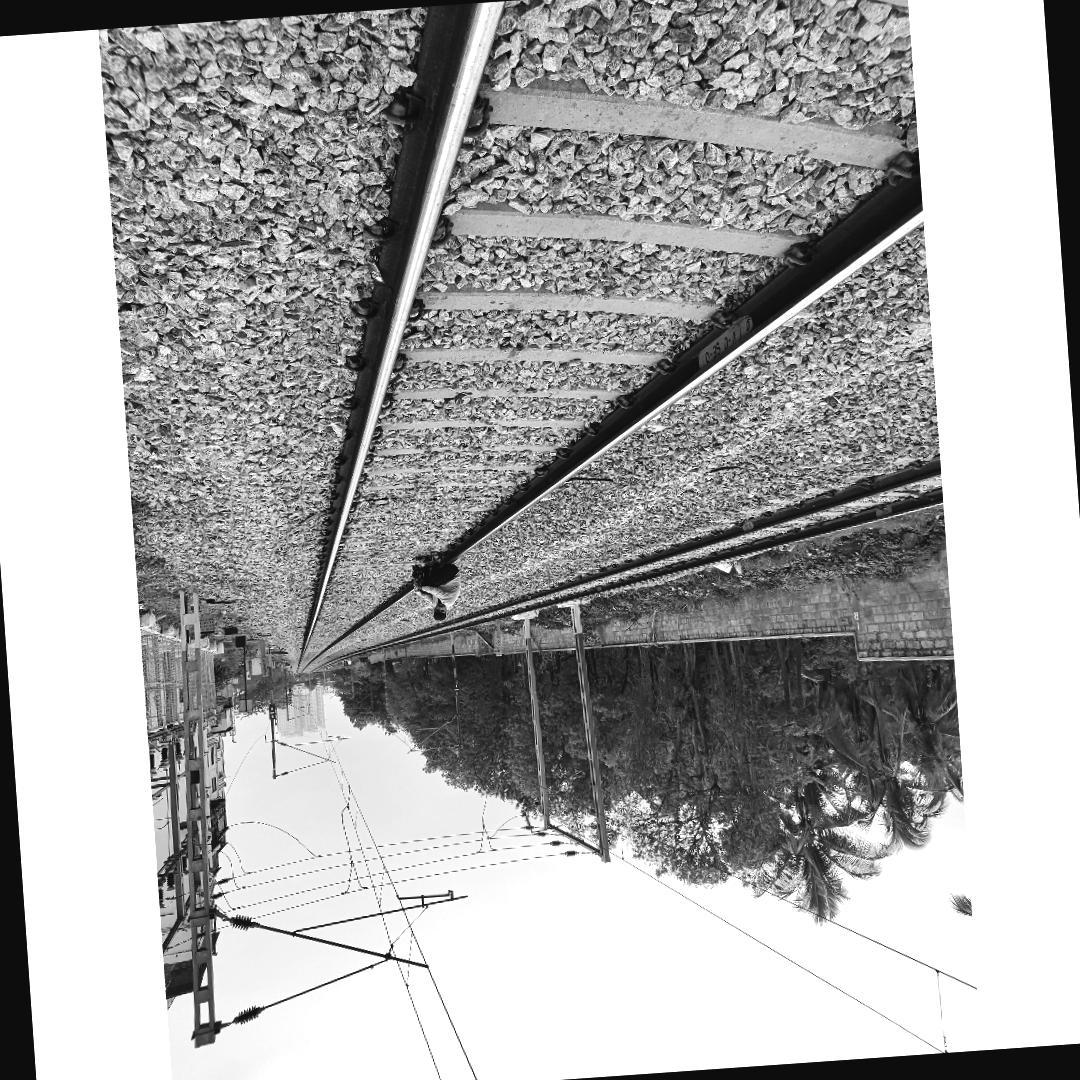sitting: (410, 550, 466, 624)
track: (286, 0, 929, 674)
